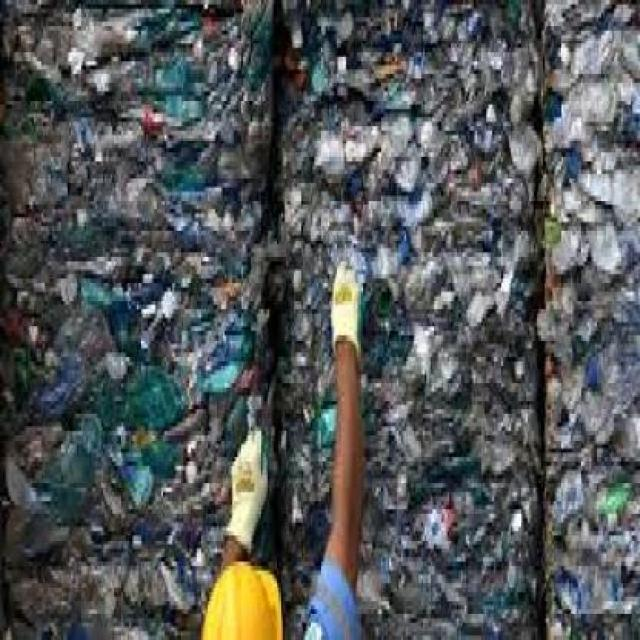garbage: (283, 0, 638, 635), (0, 9, 258, 544)
